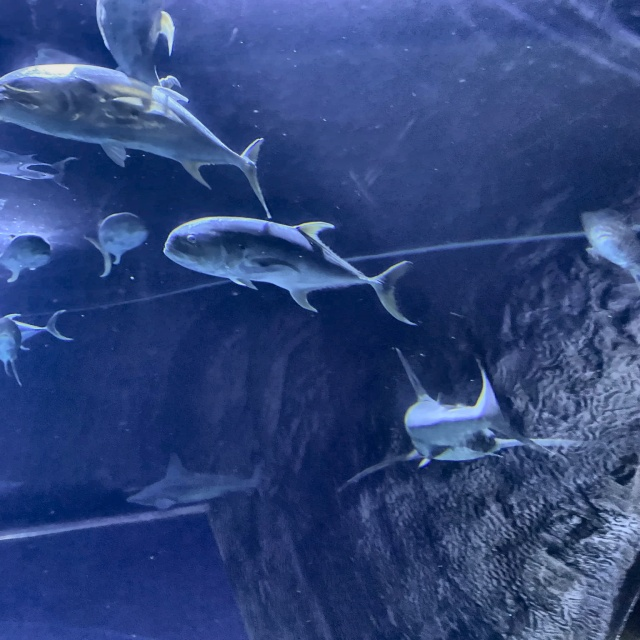fish: (0, 65, 274, 219), (162, 216, 418, 326), (97, 0, 176, 89), (82, 212, 150, 279), (580, 211, 639, 286), (0, 148, 77, 191), (0, 311, 72, 351), (0, 233, 53, 282), (0, 316, 25, 390)
shark: (334, 347, 596, 498), (125, 454, 268, 512)
